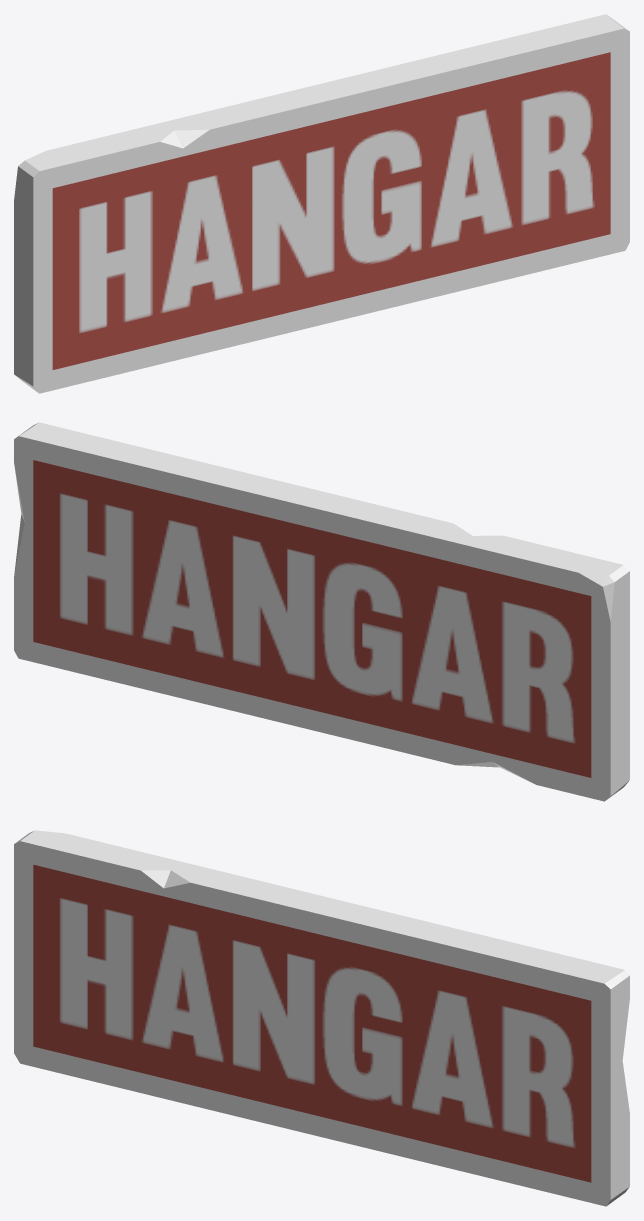
The model's file is SM_Sign_Hangar_01.fbx.
3 renders of one model, top to bottom at view 1: azimuth 30°, elevation 25°; view 2: azimuth 150°, elevation 25°; view 3: azimuth 330°, elevation 25°, orthographic.
Visible parts, largest first — view 1: SM_Sign_Hanger_01; view 2: SM_Sign_Hanger_01; view 3: SM_Sign_Hanger_01.
Boxes of the visible parts, x1,y1,x2,y2 form: SM_Sign_Hanger_01: (14,14,629,393); SM_Sign_Hanger_01: (14,422,629,801); SM_Sign_Hanger_01: (14,830,629,1206).
Bounding box in the file's own units: 258 × 91.8 × 14.42.
1 material, 1 textured.
